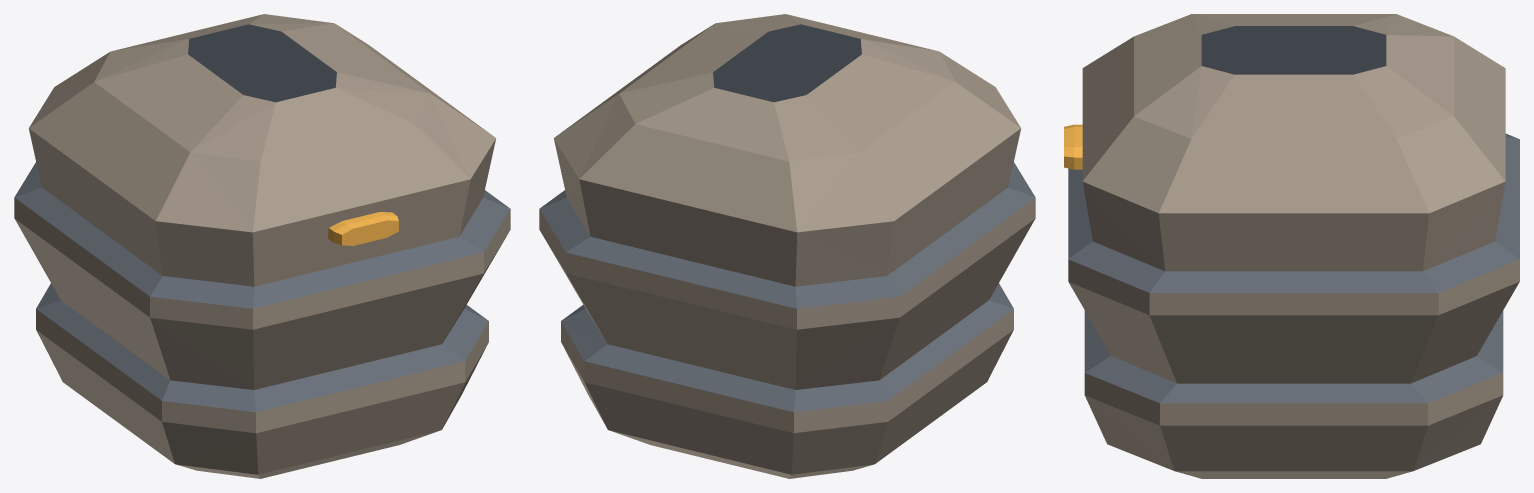
File: pauldron_heavy.glb
The picture shows the model from 3 angles, left to right: view 1: azimuth 30°, elevation 25°; view 2: azimuth 150°, elevation 25°; view 3: azimuth 270°, elevation 25°; orthographic projection. The views are drawn at different scales.
Parts seen in each view (by area): view 1: pauldron_heavy; view 2: pauldron_heavy; view 3: pauldron_heavy.
Boxes of the visible parts, bbox=[...] form: pauldron_heavy: bbox=[14, 14, 510, 478]; pauldron_heavy: bbox=[539, 14, 1035, 478]; pauldron_heavy: bbox=[1064, 14, 1519, 478].
Size of the model in its own units: 1.08 by 1 by 1.11.
